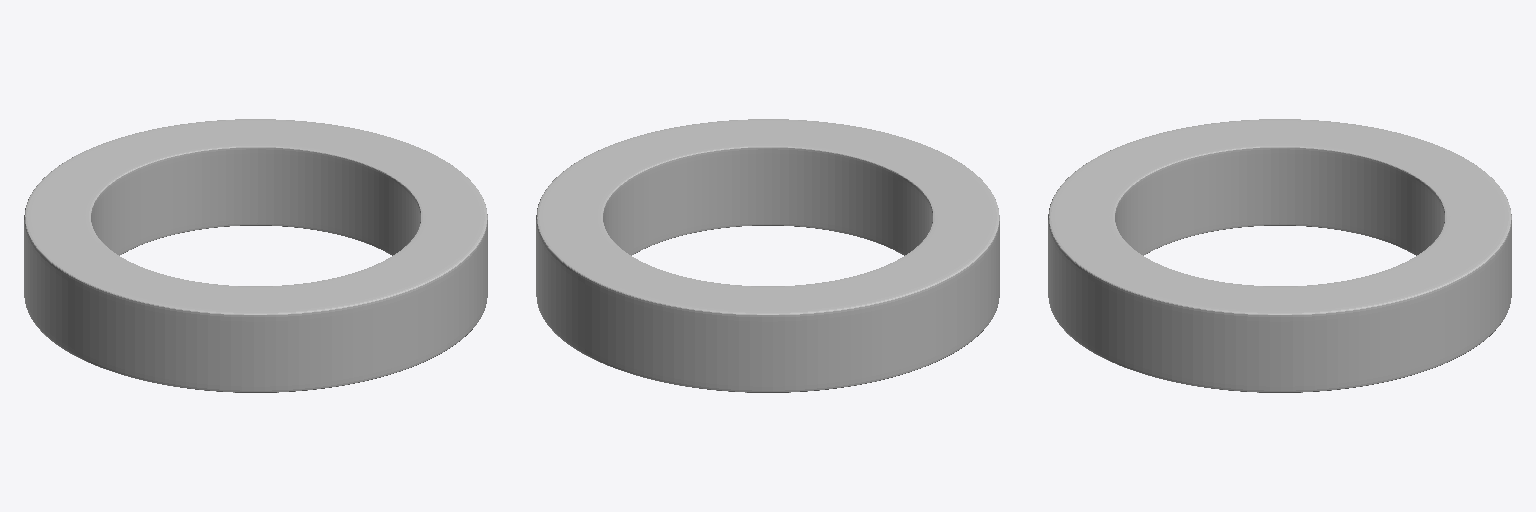
Rendered from ring2.obj.
The picture shows the model from 3 angles: view 1: azimuth 30°, elevation 25°; view 2: azimuth 150°, elevation 25°; view 3: azimuth 270°, elevation 25°; orthographic projection.
Visible parts, largest first — view 1: Ring2_SecondSmallRing; view 2: Ring2_SecondSmallRing; view 3: Ring2_SecondSmallRing.
Boxes of the visible parts, x1,y1,x2,y2 form: Ring2_SecondSmallRing: [24, 119, 487, 392]; Ring2_SecondSmallRing: [536, 119, 999, 392]; Ring2_SecondSmallRing: [1048, 119, 1511, 392].
Size of the model in its own units: 2.27 by 0.4293 by 2.27.